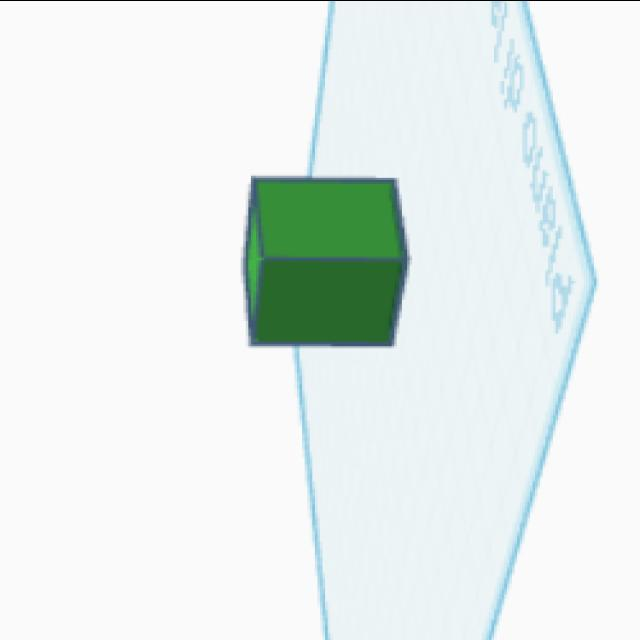cube: (227, 170, 418, 352)
